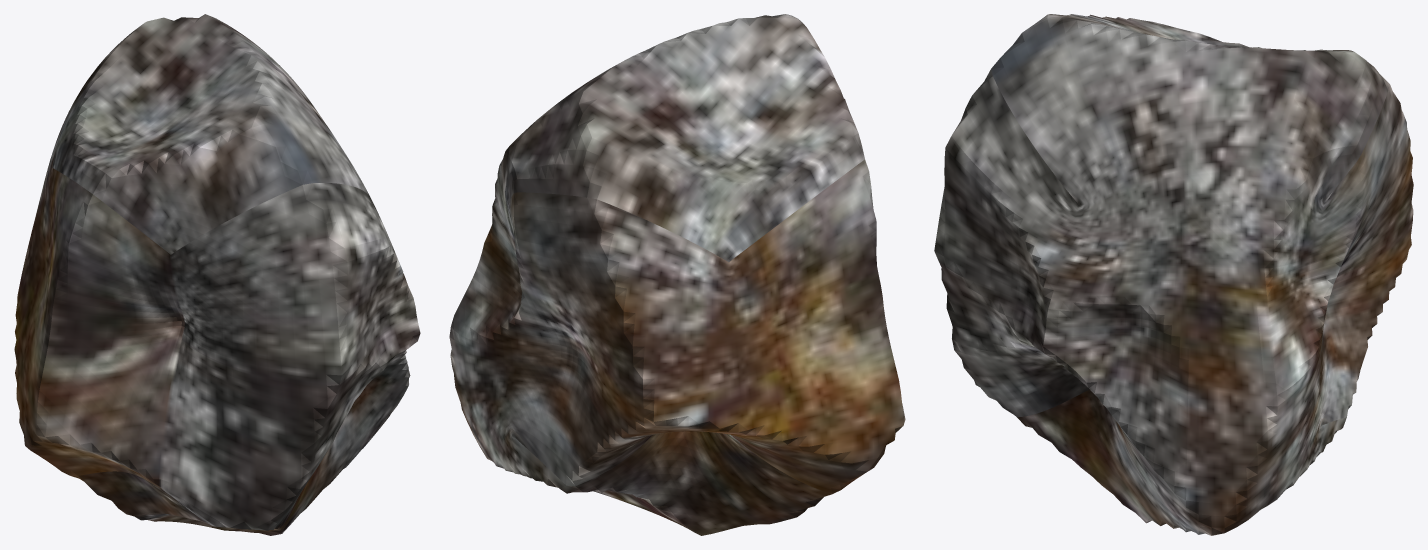
The model's file is asteroide1.obj.
3 renders of one model, left to right at view 1: azimuth 30°, elevation 25°; view 2: azimuth 150°, elevation 25°; view 3: azimuth 270°, elevation 25°, orthographic. The views are drawn at different scales.
Parts seen in each view (by area): view 1: Cube.001; view 2: Cube.001; view 3: Cube.001.
Part boxes in pixels (box(x1,y1,x2,y2)): Cube.001: box(14, 14, 420, 535); Cube.001: box(449, 14, 905, 535); Cube.001: box(934, 14, 1413, 535).
Bounding box in the file's own units: 1.98 × 2.3 × 2.09.
